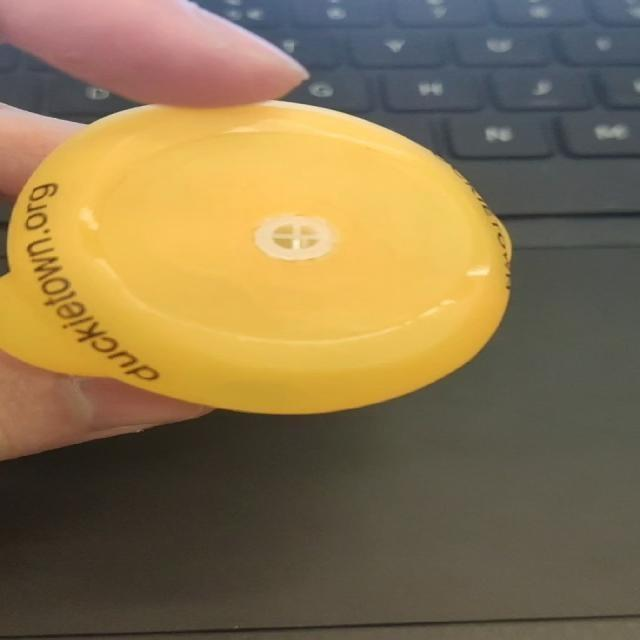rubber-duck: (0, 101, 509, 411)
